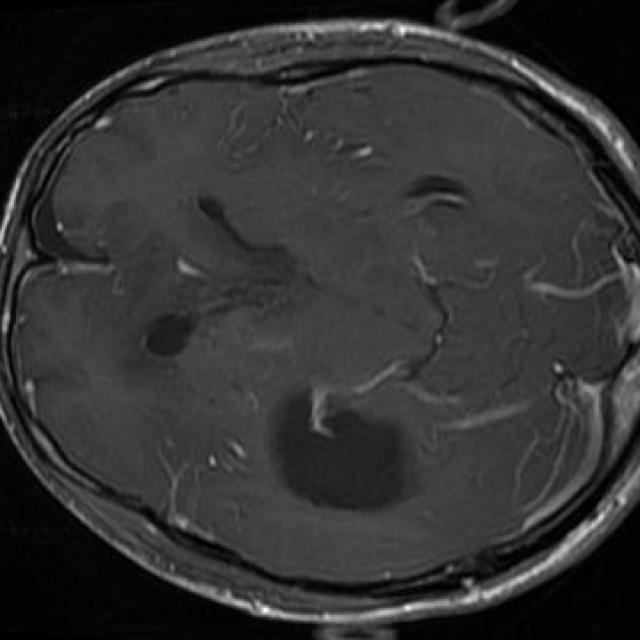glioma: (267, 385, 417, 512)
